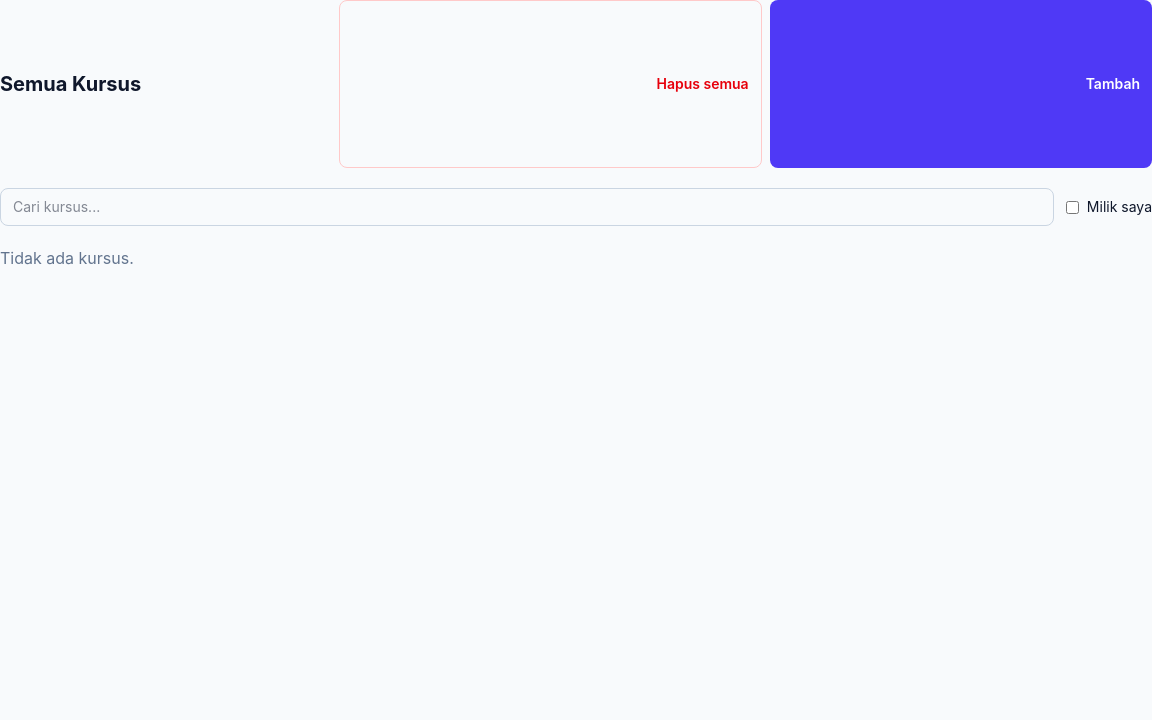
Scenario: HomePage › membuka dan menutup modal tambah
Click the button "Tambah" at (961, 84), box [770,0,1151,168]
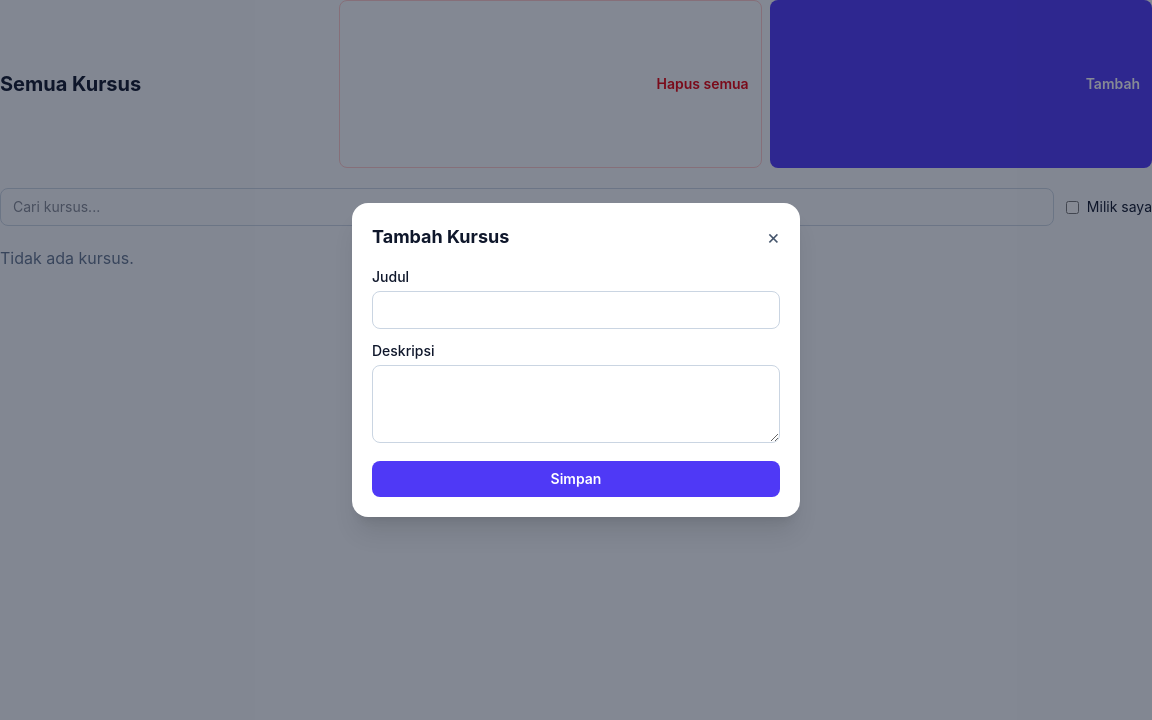
Expected: the dialog "Tambah Kursus" is shown
Click the button named "Tutup" at (773, 237), box [767,227,780,247]
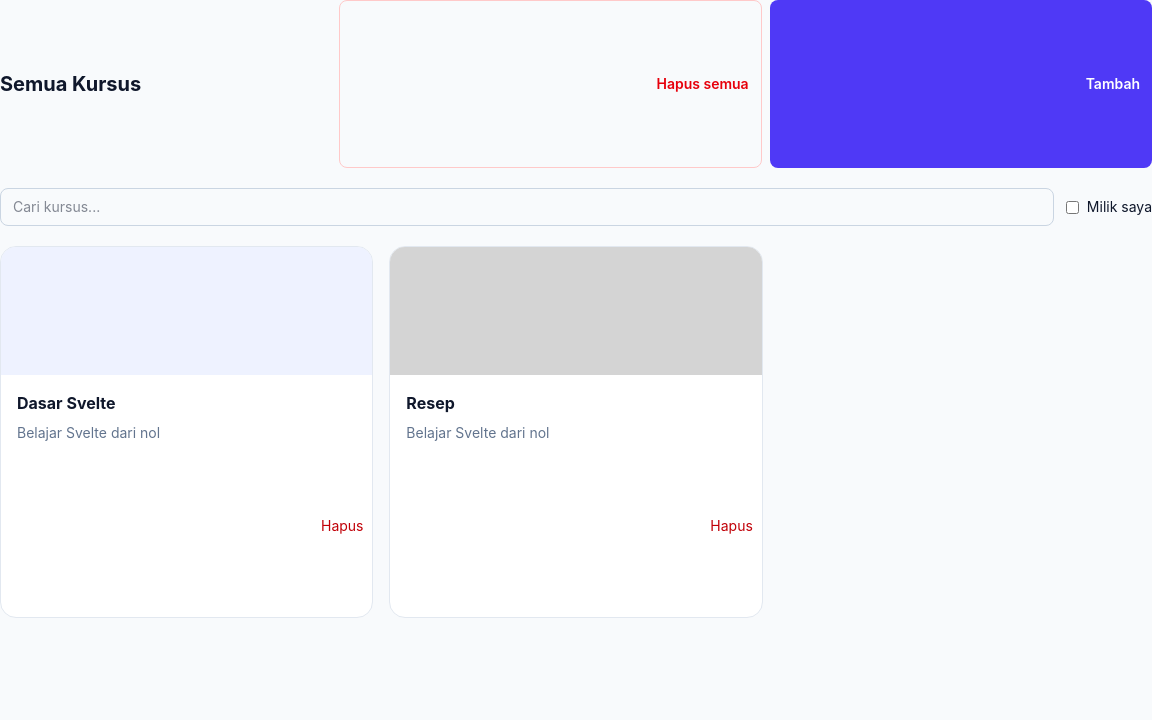
Expected: the dialog is gone
